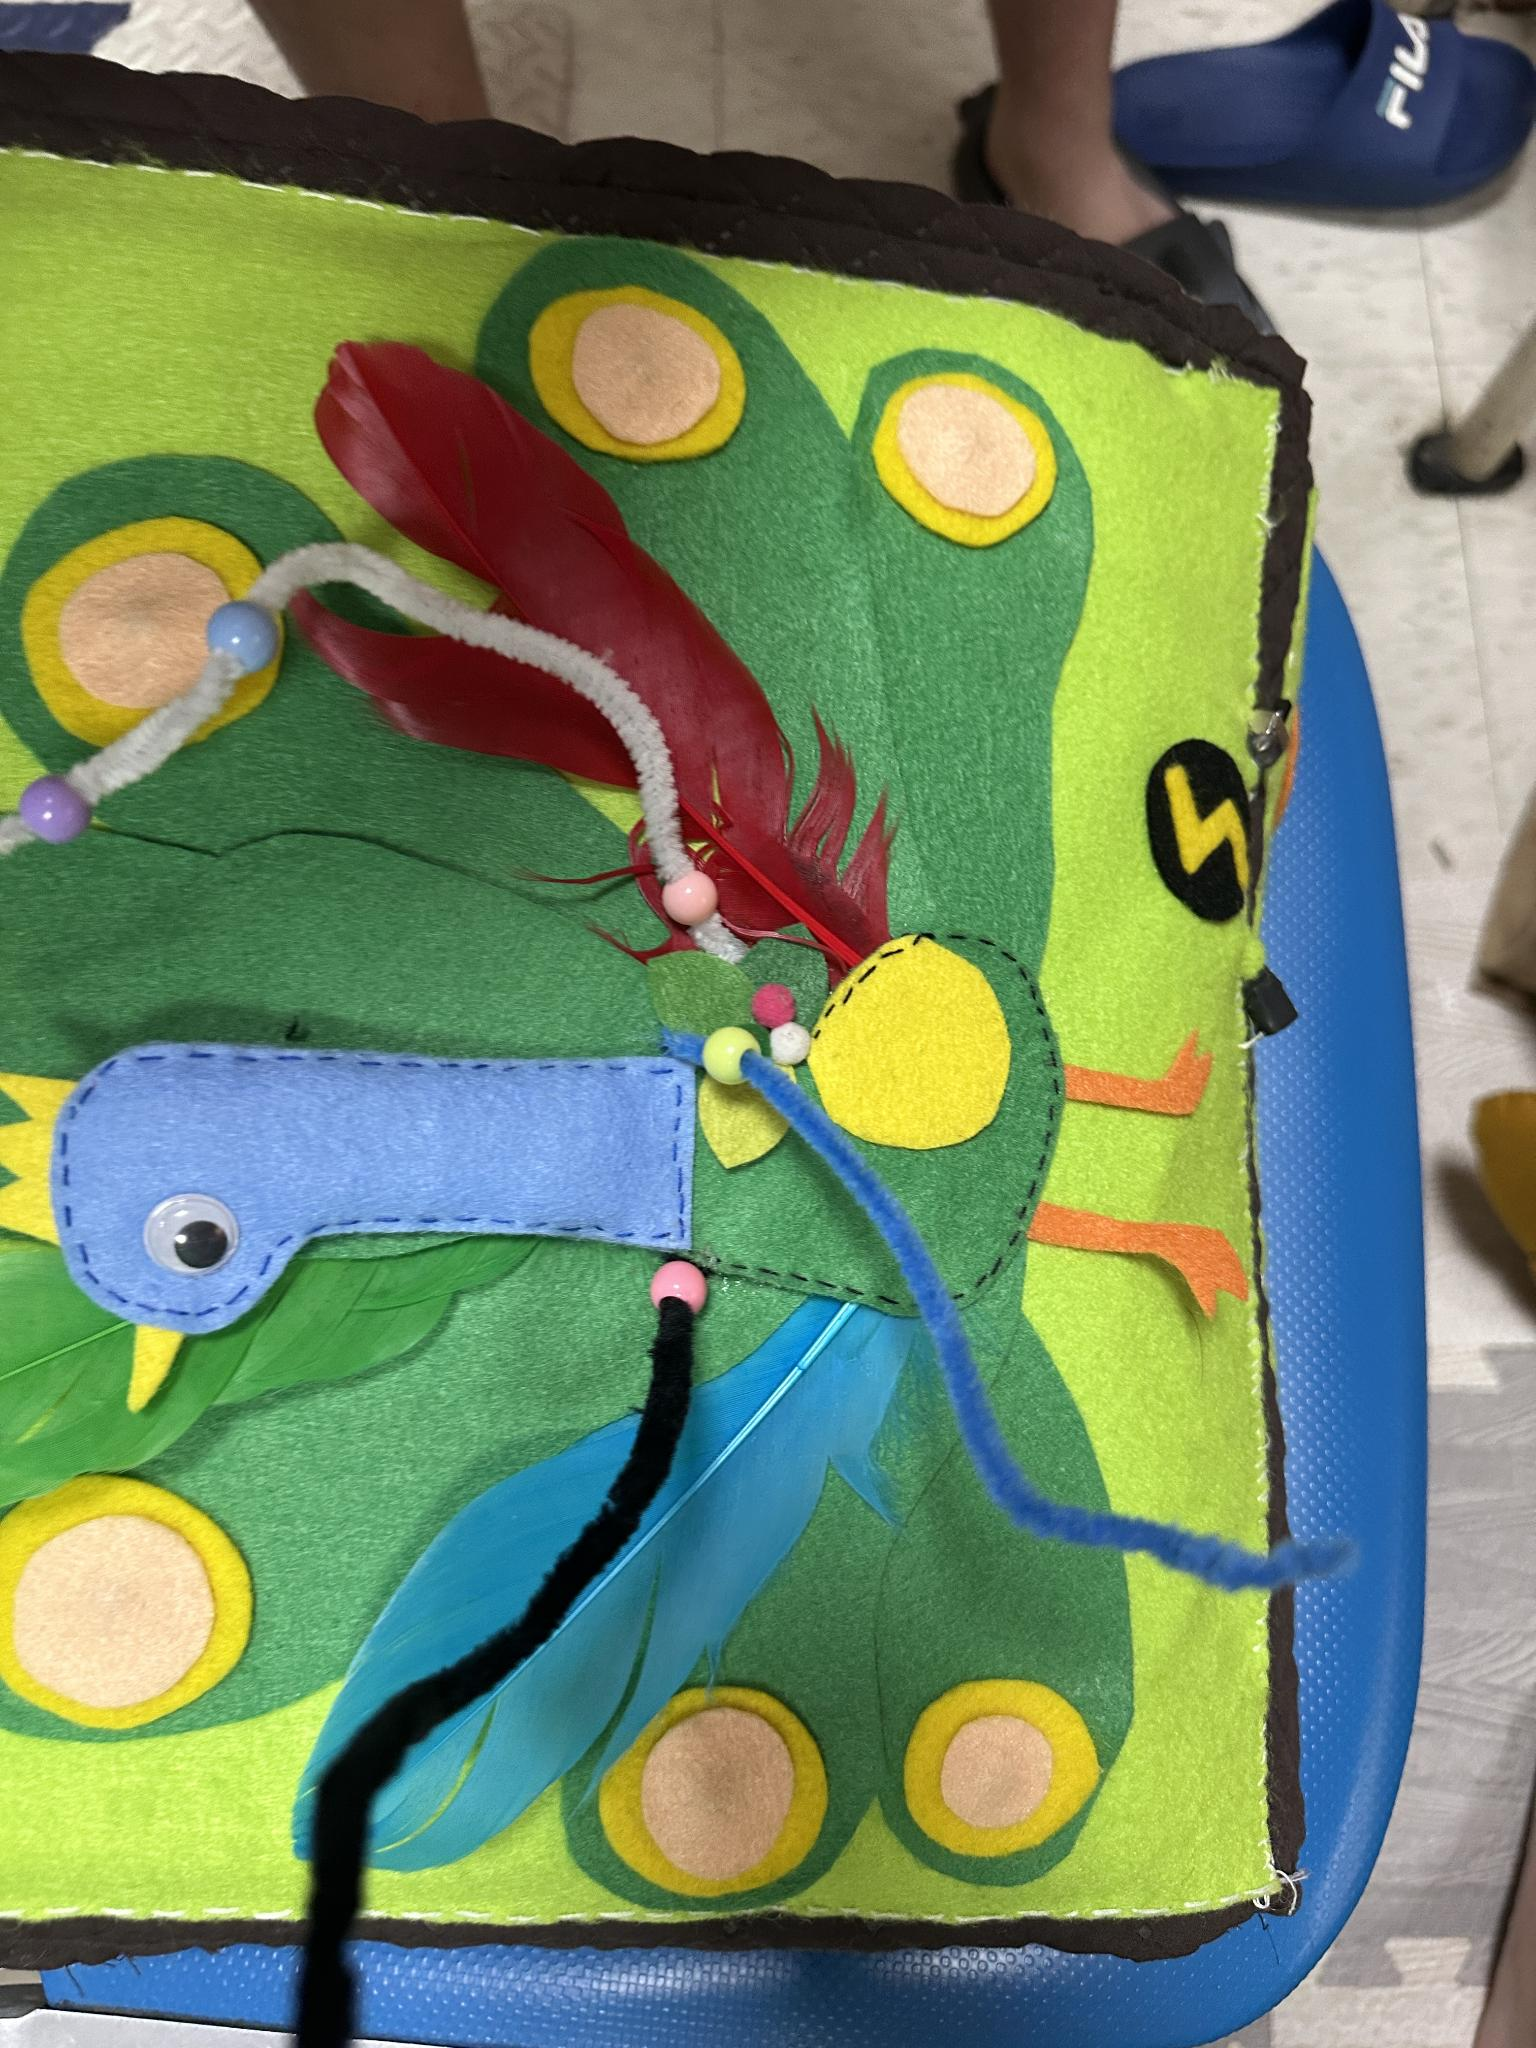bead: (200, 590, 281, 684), (691, 1014, 771, 1090), (645, 1247, 720, 1327), (655, 863, 729, 942), (18, 776, 94, 851)
